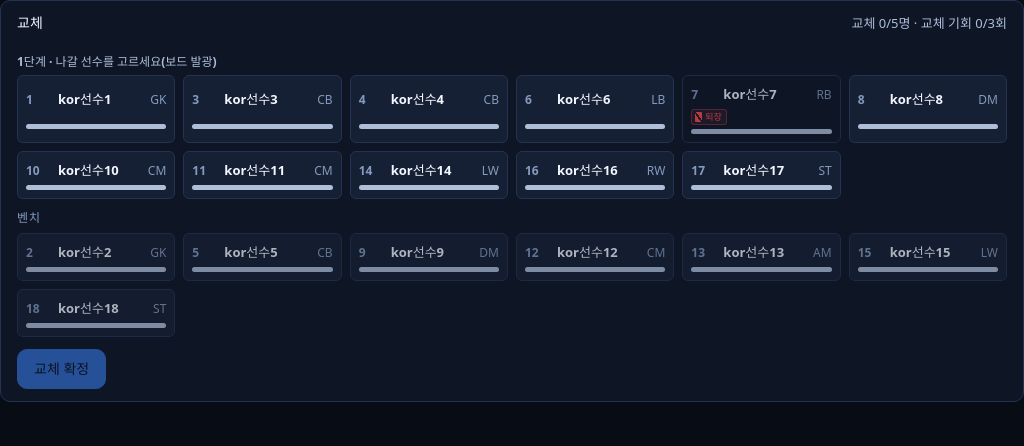
Test: 교체 패널 — 차단 사유 고지 › 퇴장 선수는 OUT으로 고를 수 없고 눌렀을 때 규정 사유가 뜬다
Click the 5th button with class "cs-card": [761, 109] box x1=682 y1=75 x2=841 y2=143
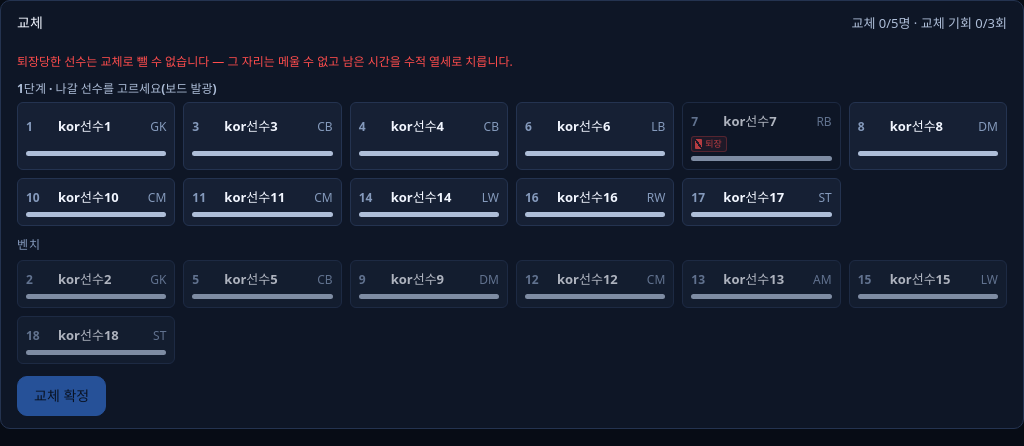
Expected: the message with class "cs-error" shows "퇴장당한 선수는 교체로 뺄 수 없습니다", x1=17 y1=53 x2=513 y2=70
